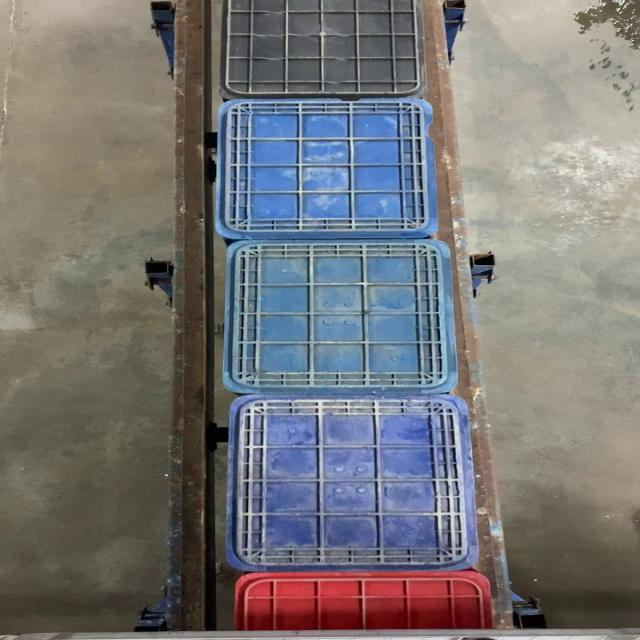Box: (229, 394, 482, 570), (224, 238, 462, 394), (225, 100, 430, 238)
